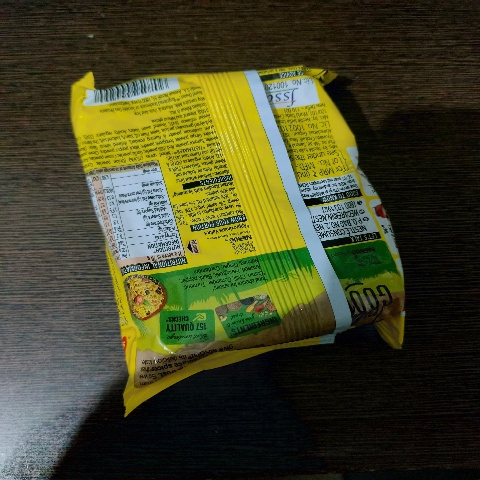maggi: (54, 54, 416, 407)
